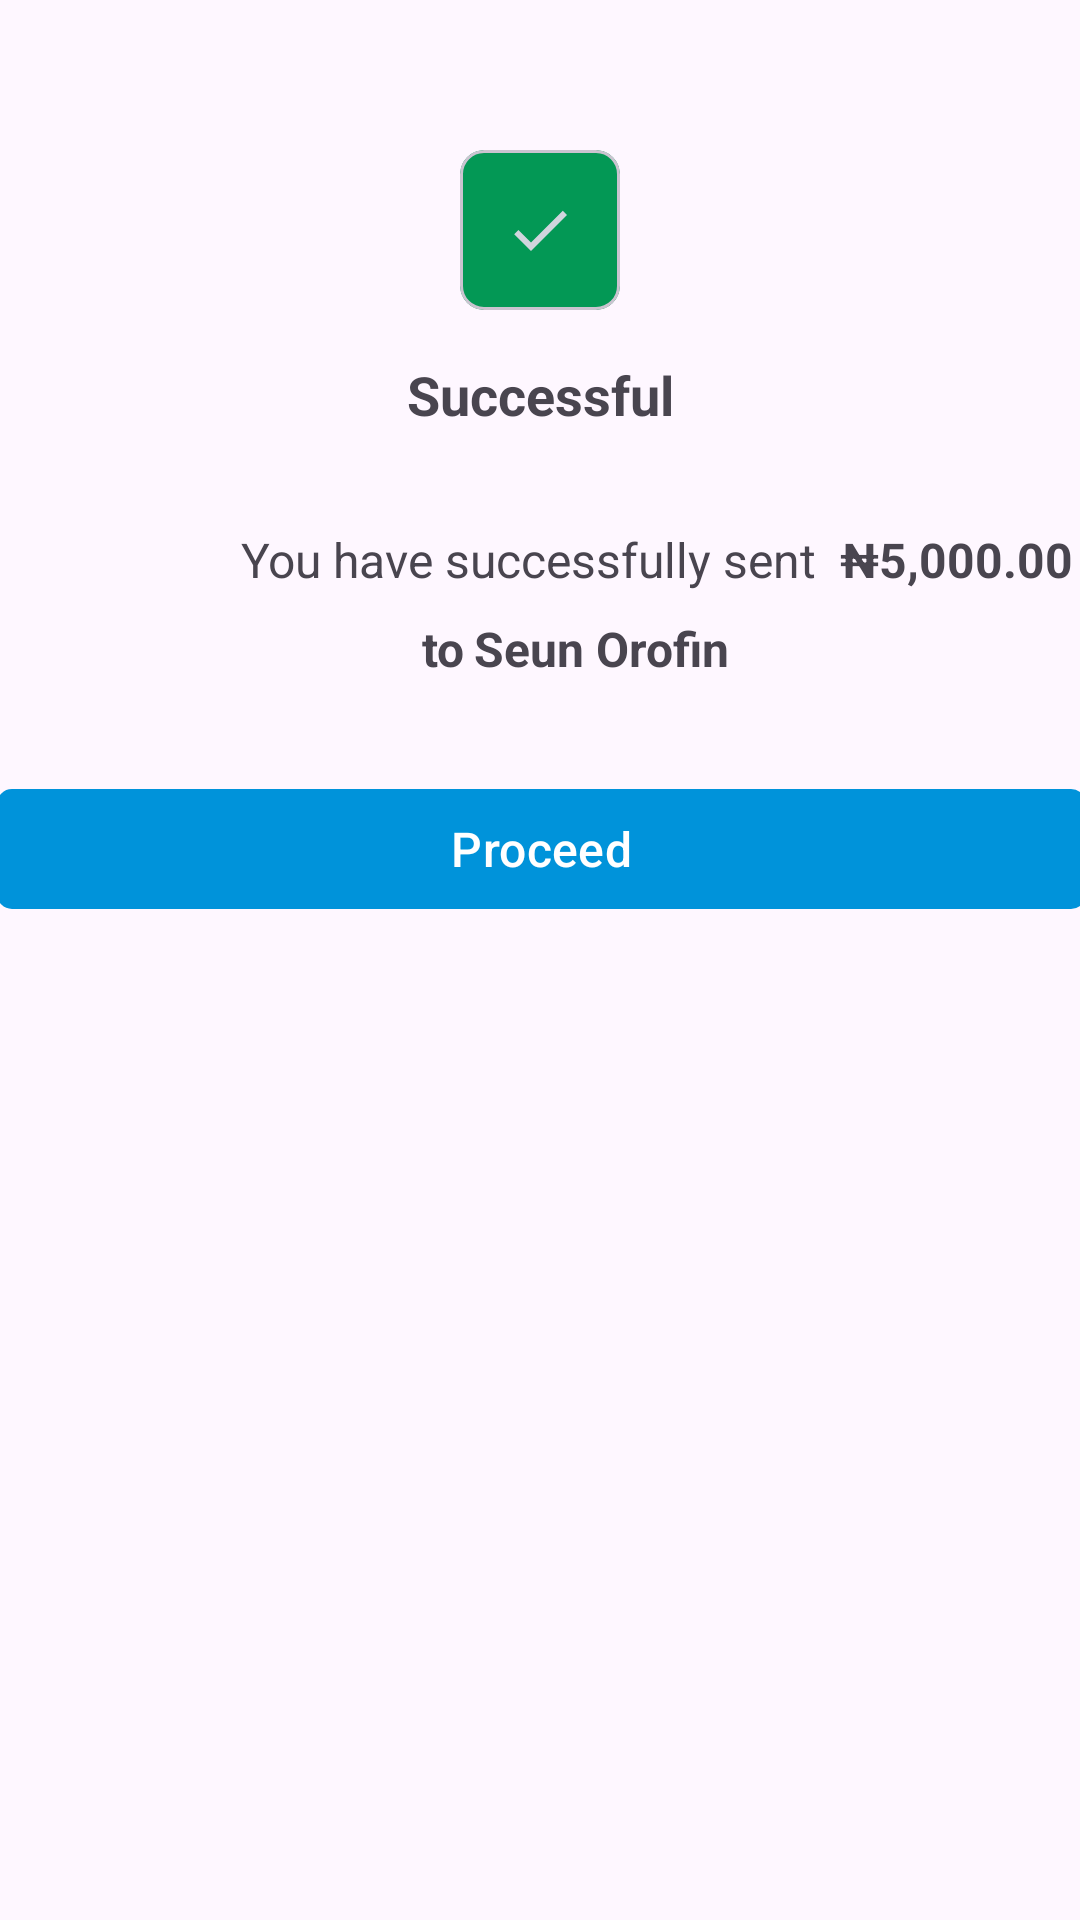

Locate icon controls on the screen. Image size 1080px×1920px, boxes as (x1, y1, x2, y2).
done: (514, 211, 567, 251)
